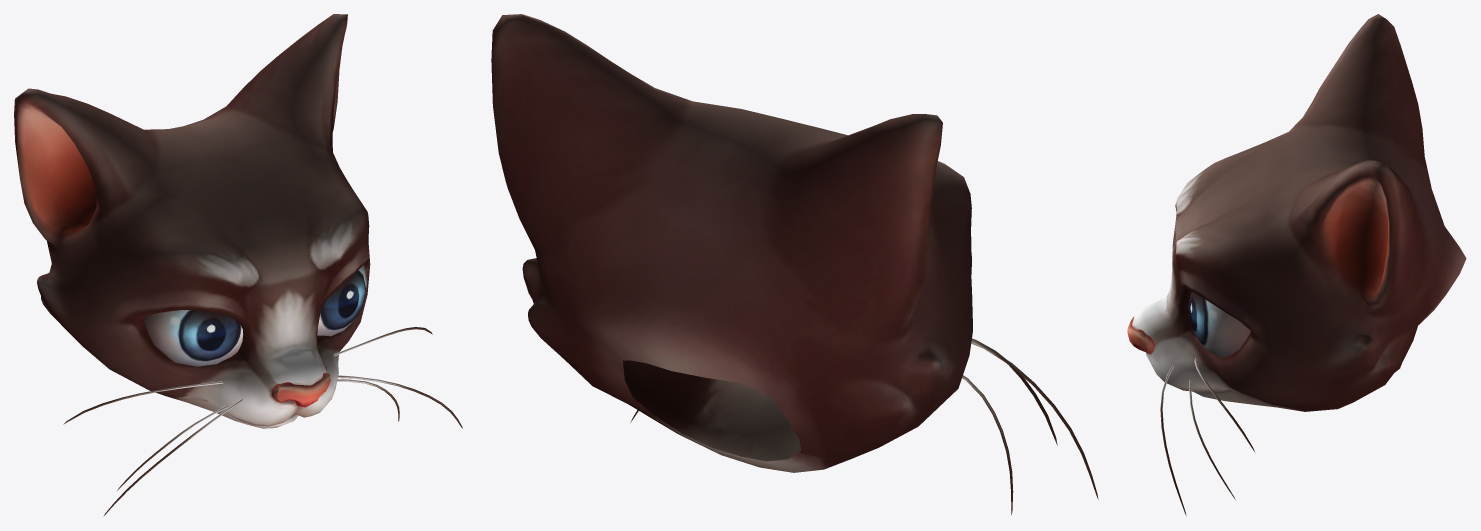
The model's file is cat.glb.
3 renders of one model, left to right at view 1: azimuth 30°, elevation 25°; view 2: azimuth 150°, elevation 25°; view 3: azimuth 270°, elevation 25°, orthographic. The views are drawn at different scales.
Parts seen in each view (by area): view 1: cat; view 2: cat; view 3: cat.
Boxes of the visible parts, bbox=[...] form: cat: bbox=[14, 14, 462, 516]; cat: bbox=[491, 14, 1098, 514]; cat: bbox=[1127, 14, 1466, 516].
Bounding box in the file's own units: 0.9657 × 0.8768 × 0.7837.
Materials: 1 (1 with a texture image).
